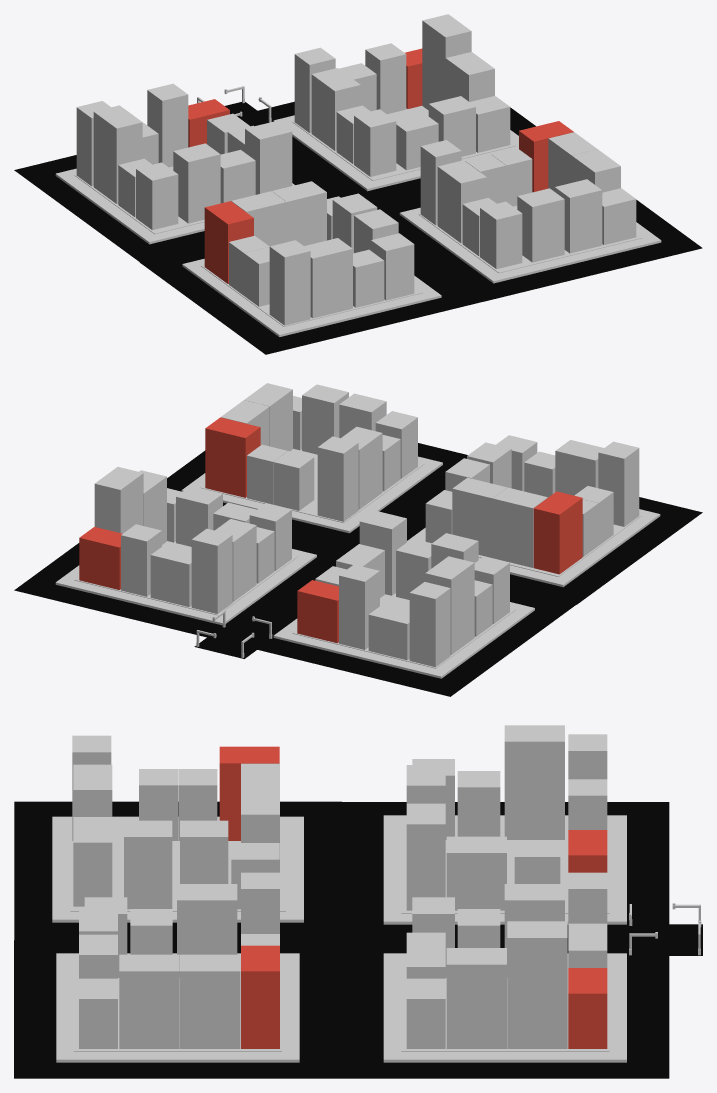
The model's file is Taxi Rush Town.fbx.
The picture shows the model from 3 angles, top to bottom: view 1: azimuth 30°, elevation 25°; view 2: azimuth 150°, elevation 25°; view 3: azimuth 270°, elevation 25°; orthographic projection. The views are drawn at different scales.
Parts seen in each view (by area): view 1: Plane.003, Plane, Plane.002, Cube.037, Plane.001, Cube.054, Cube.046, Cube.055, Cube, Cube.041, Cube.013, Cube.021 (+46 smaller); view 2: Plane.002, Plane.001, Plane.003, Plane, Cube.051, Cube.004, Cube.001, Cube.026, Cube.029, Cube.049, Cube.028, Cube.027 (+47 smaller); view 3: Plane, Plane.001, Plane.003, Plane.002, Cube.021, Cube.037, Cube.027, Cube, Cube.020, Cube.007, Cube.006, Cube.055 (+43 smaller).
Part boxes in pixels (<box>): Plane.003: <box>140,247,483,354</box>; Plane: <box>375,194,702,301</box>; Plane.002: <box>14,155,341,262</box>; Cube.037: <box>93,105,142,203</box>; Plane.001: <box>258,101,535,204</box>; Cube.054: <box>269,240,310,325</box>; Cube.046: <box>304,238,352,318</box>; Cube.055: <box>182,258,441,337</box>; Cube: <box>399,207,661,283</box>; Cube.041: <box>173,143,220,223</box>; Cube.013: <box>517,188,564,262</box>; Cube.021: <box>422,14,471,110</box>; Plane.002: <box>248,588,576,696</box>; Plane.001: <box>14,535,350,637</box>; Plane.003: <box>405,488,702,604</box>; Plane: <box>167,443,467,549</box>; Cube.051: <box>533,491,582,574</box>; Cube.004: <box>205,417,260,497</box>; Cube.001: <box>317,436,358,521</box>; Cube.026: <box>191,528,232,613</box>; Cube.029: <box>409,582,450,667</box>; Cube.049: <box>492,487,547,567</box>; Cube.028: <box>273,602,534,678</box>; Cube.027: <box>55,549,316,625</box>; Plane: <box>14,940,341,1078</box>; Plane.001: <box>341,940,669,1078</box>; Plane.003: <box>14,801,341,940</box>; Plane.002: <box>341,802,669,940</box>; Cube.021: <box>507,921,567,1048</box>; Cube.037: <box>504,725,564,839</box>; Cube.027: <box>383,953,626,1062</box>; Cube: <box>56,953,299,1062</box>; Cube.020: <box>446,948,506,1048</box>; Cube.007: <box>119,954,179,1048</box>; Cube.006: <box>180,954,240,1048</box>; Cube.055: <box>52,816,303,922</box>.
Bounding box in the file's own units: 9577 × 1848 × 10066.
